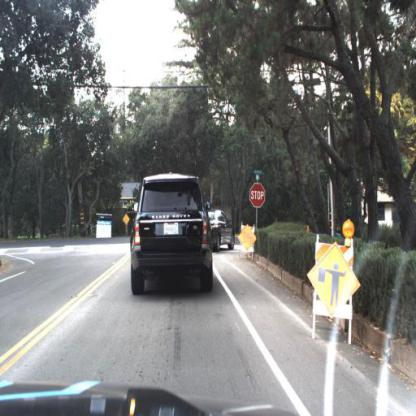car: (130, 170, 215, 297), (199, 205, 236, 254)
